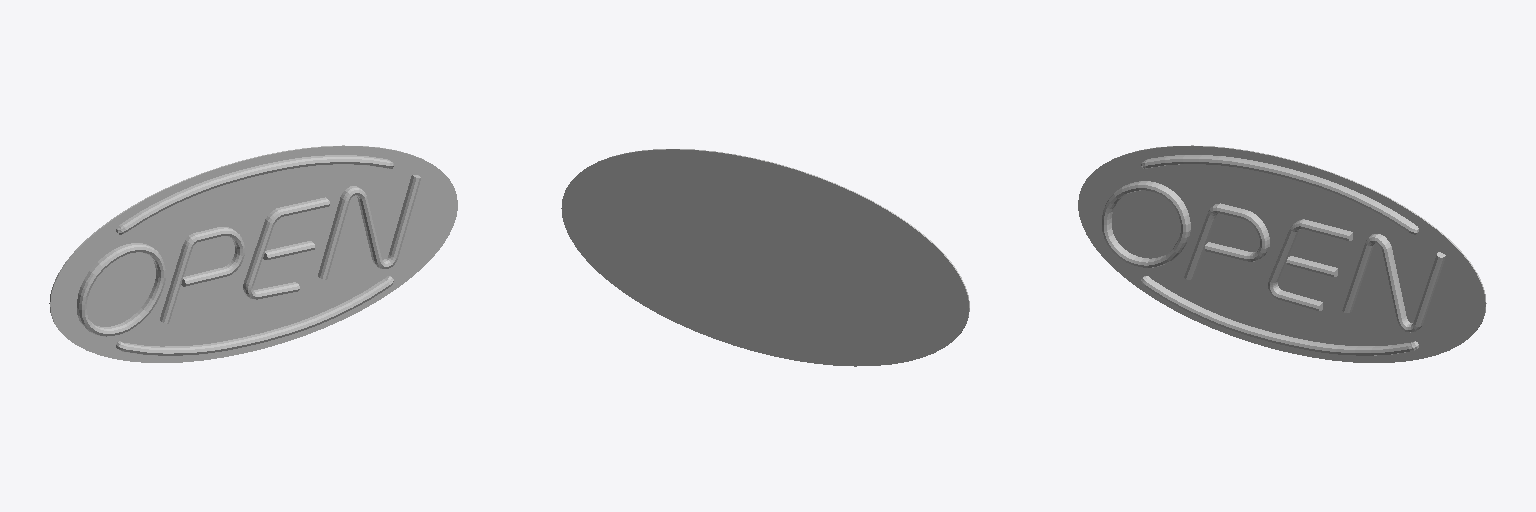
Rendered from NeonSignOpen.obj.
3 views of the same model, side by side, from view 1: azimuth 30°, elevation 25°; view 2: azimuth 150°, elevation 25°; view 3: azimuth 330°, elevation 25° (orthographic).
Parts seen in each view (by area): view 1: NeonSignOpen; view 2: NeonSignOpen; view 3: NeonSignOpen.
Part boxes in pixels (bbox=[...]): NeonSignOpen: bbox=[49, 145, 457, 362]; NeonSignOpen: bbox=[561, 149, 969, 366]; NeonSignOpen: bbox=[1078, 145, 1486, 362].
Size of the model in its own units: 16.65 by 7.52 by 0.3717.